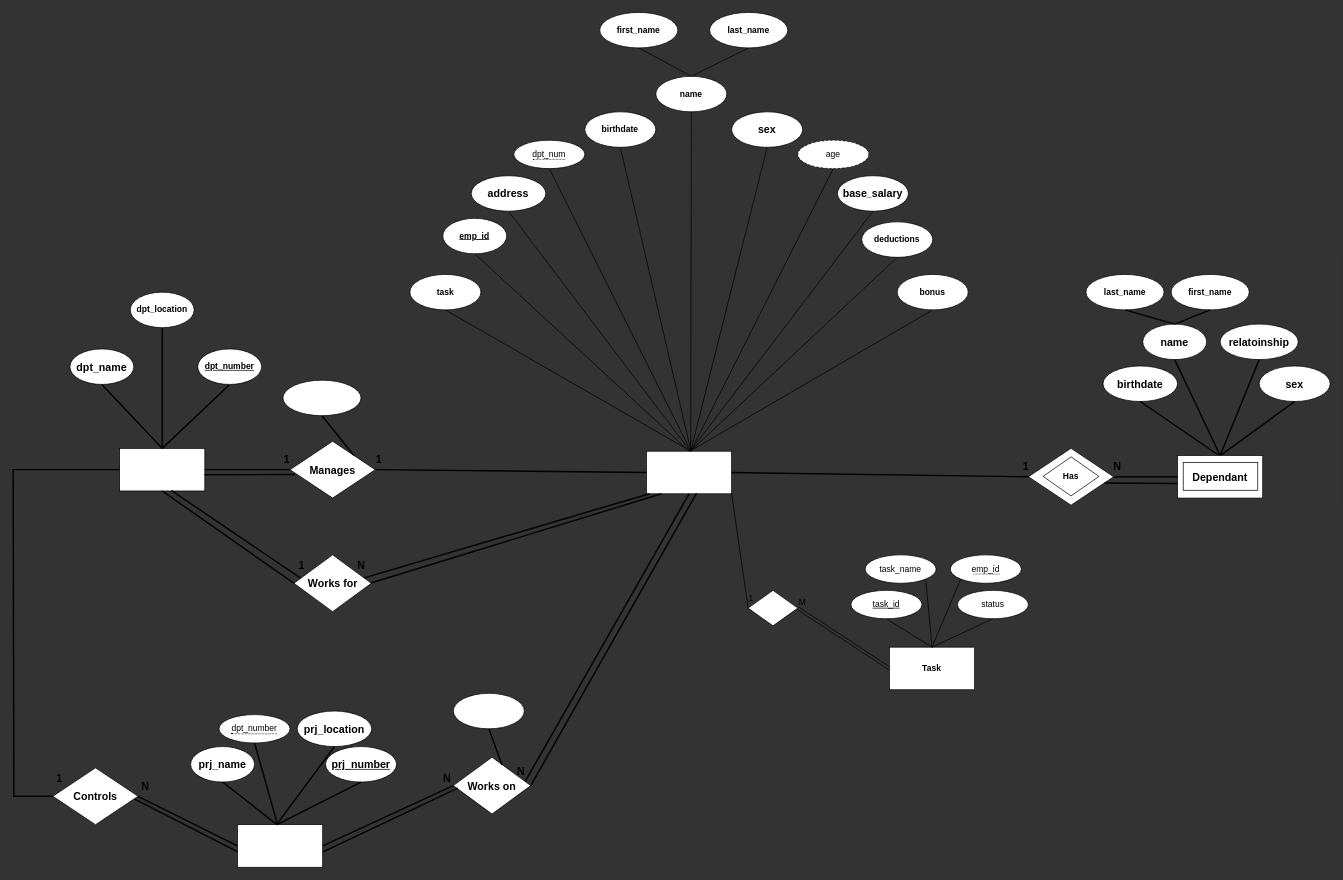
This 1343x880 diagram has some shape labels left out. The centre of each missing label's shape, as x and y in pixels:
"assigned" goes at point (772, 608).
"Department" goes at point (162, 469).
"Employee" goes at point (689, 472).
"hours" goes at point (488, 711).
"mgr_SDate" goes at point (321, 397).
"Project" goes at point (280, 845).
